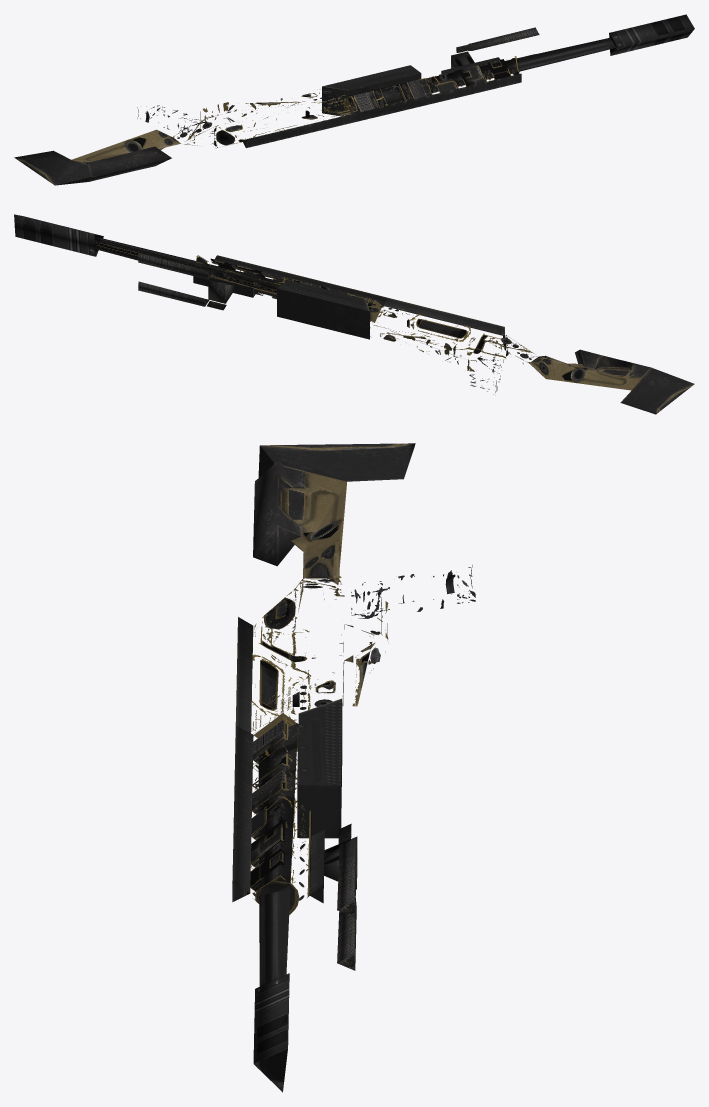
File: t6_wpn_sniper_ballista_world_LOD2.obj
The picture shows the model from 3 angles, top to bottom: view 1: azimuth 30°, elevation 25°; view 2: azimuth 150°, elevation 25°; view 3: azimuth 270°, elevation 25°; orthographic projection. The views are drawn at different scales.
Visible parts, largest first — view 1: mtl_t6_wpn_sniper_ballista_camo2, mtl_t6_wpn_sniper_ballista_camo1, mtl_t6_wpn_sniper_ballista_camo3; view 2: mtl_t6_wpn_sniper_ballista_camo2, mtl_t6_wpn_sniper_ballista_camo1, mtl_t6_wpn_sniper_ballista_camo3; view 3: mtl_t6_wpn_sniper_ballista_camo2, mtl_t6_wpn_sniper_ballista_camo1.
Part boxes in pixels (<box>): mtl_t6_wpn_sniper_ballista_camo2: <box>14,14,694,185</box>; mtl_t6_wpn_sniper_ballista_camo1: <box>71,27,539,181</box>; mtl_t6_wpn_sniper_ballista_camo3: <box>206,89,345,145</box>; mtl_t6_wpn_sniper_ballista_camo2: <box>14,214,694,414</box>; mtl_t6_wpn_sniper_ballista_camo1: <box>138,253,650,390</box>; mtl_t6_wpn_sniper_ballista_camo3: <box>369,301,504,355</box>; mtl_t6_wpn_sniper_ballista_camo2: <box>253,443,475,1092</box>; mtl_t6_wpn_sniper_ballista_camo1: <box>232,464,388,970</box>.
Size of the model in its own units: 120 by 6.29 by 19.85.
